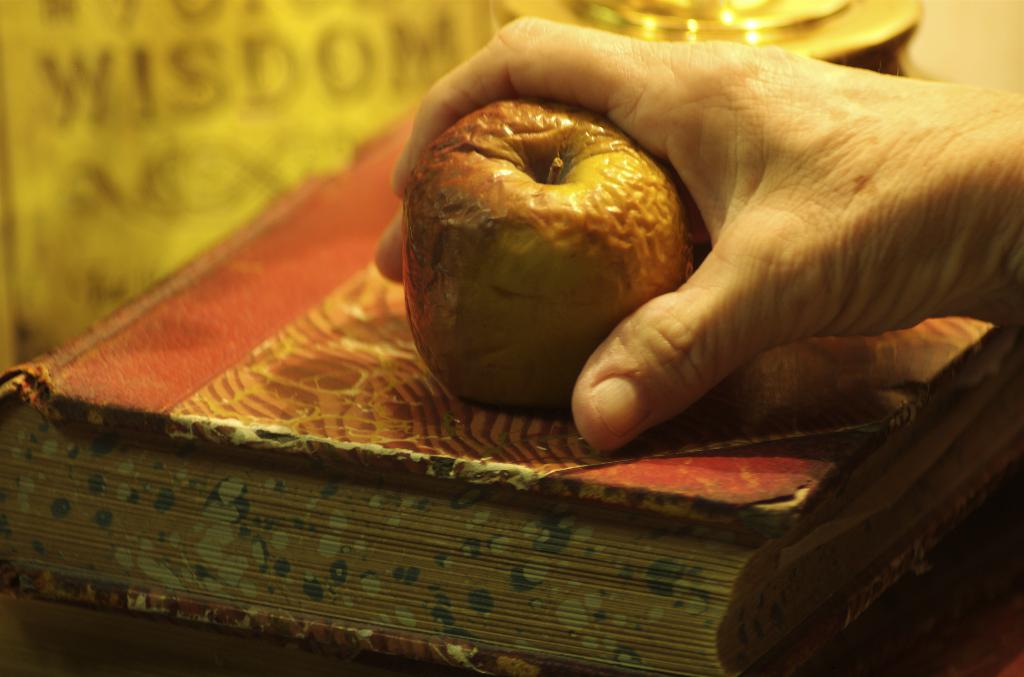Apple: (391, 87, 686, 419)
